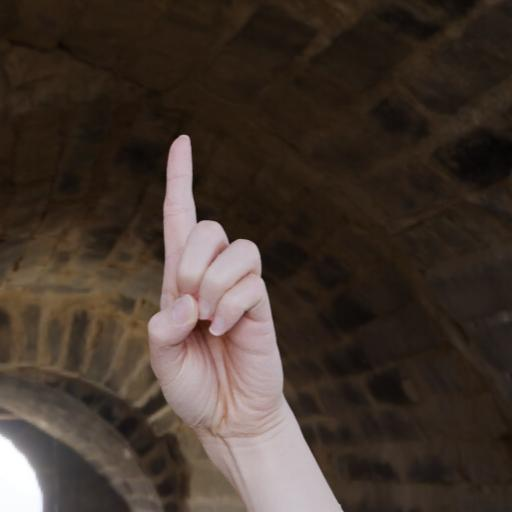D: (147, 130, 288, 430)
